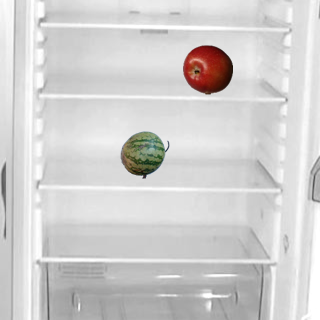Apple Braeburn: (182, 44, 232, 94)
Watermelon: (119, 129, 169, 179)
